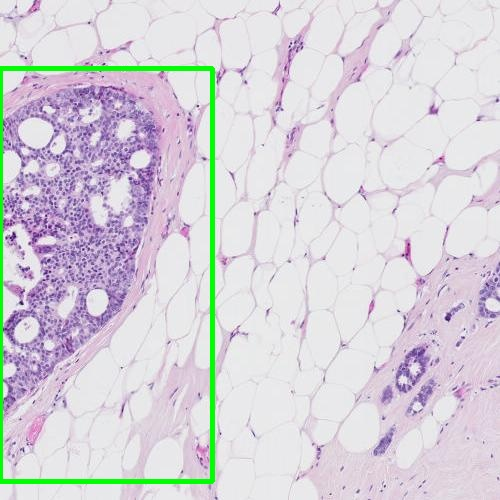DCIS: (0, 68, 212, 481)
